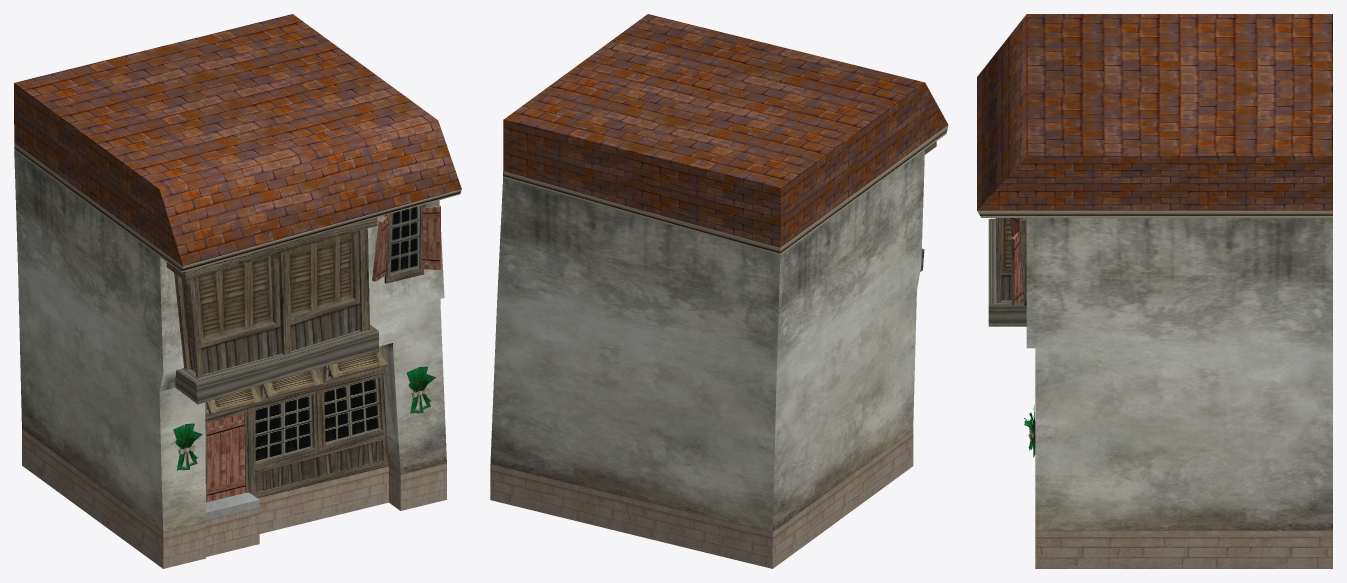
The model's file is english_i.fbx.
3 views of the same model, side by side, from view 1: azimuth 30°, elevation 25°; view 2: azimuth 150°, elevation 25°; view 3: azimuth 270°, elevation 25° (orthographic). The views are drawn at different scales.
Parts seen in each view (by area): view 1: building_shell, shutter, door_left, window_a, building_shell6; view 2: building_shell; view 3: building_shell, shutter, window_a.
Boxes of the visible parts, <box> form: building_shell: <box>14,14,461,568</box>; shutter: <box>206,205,441,414</box>; door_left: <box>207,413,245,501</box>; window_a: <box>384,204,425,283</box>; building_shell6: <box>206,500,259,556</box>; building_shell: <box>490,14,948,568</box>; building_shell: <box>977,14,1332,568</box>; shutter: <box>1009,218,1023,305</box>; window_a: <box>1019,218,1026,305</box>.
Size of the model in its own units: 4127 by 5212 by 4140.
2 materials, 2 textured.
